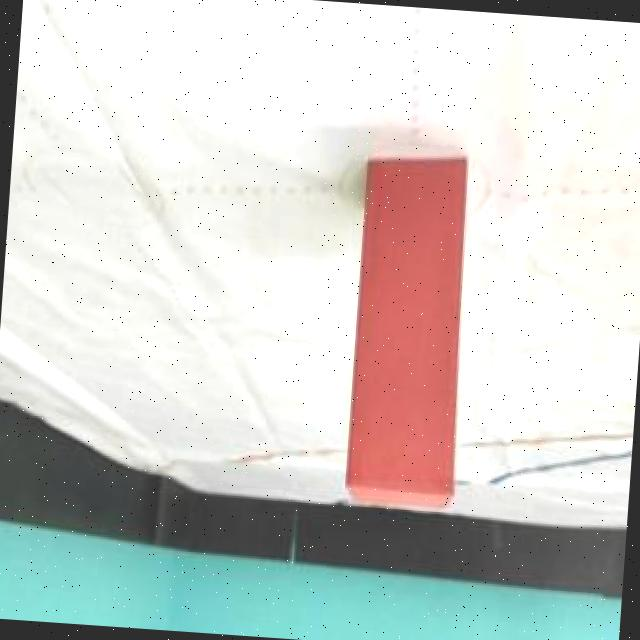redbox: (344, 154, 468, 513)
